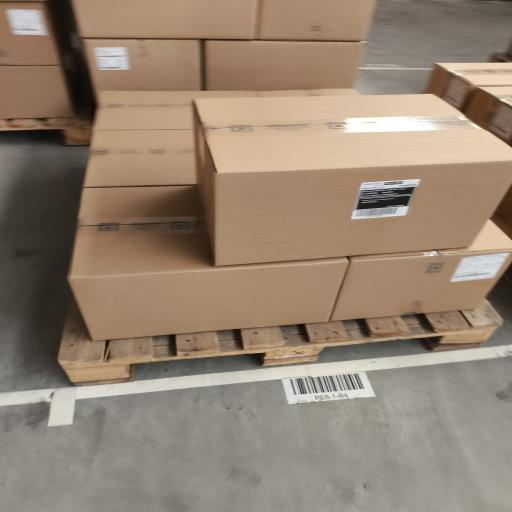pallet: (58, 301, 502, 384), (0, 119, 91, 145), (492, 214, 511, 238), (489, 53, 511, 62)
